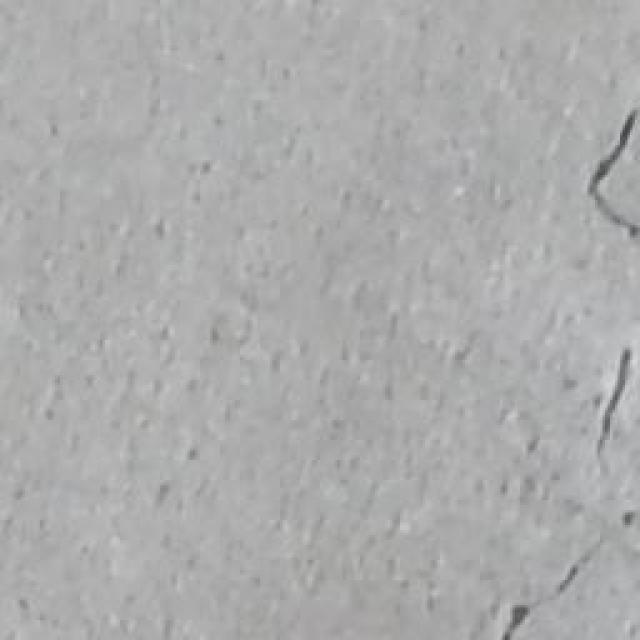concrete-crack: (489, 525, 611, 640), (577, 99, 640, 252), (594, 350, 640, 481)
